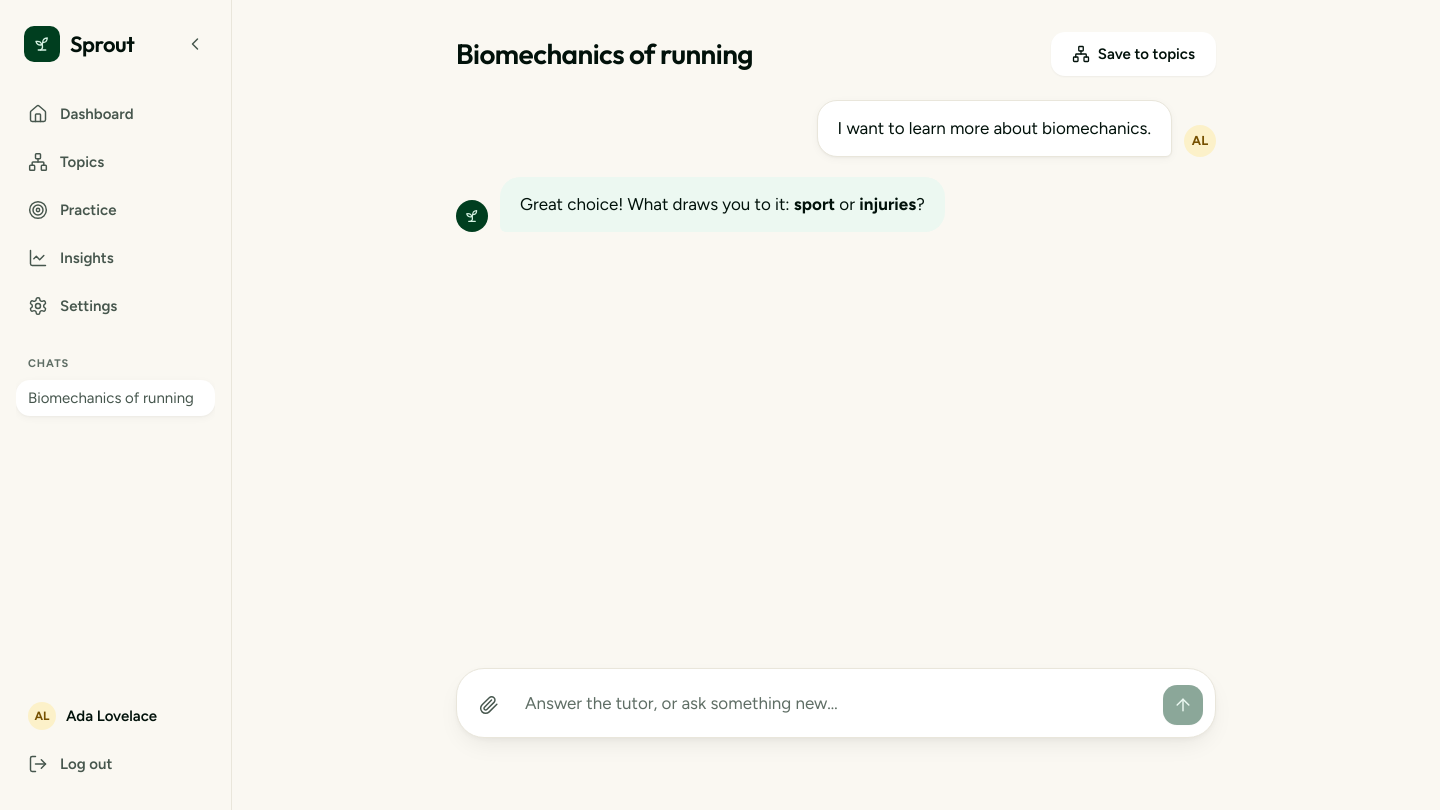
ConversationView › keeps the review closed and says why when your categories don’t load
This screenshot has width=1440, height=810.
Click the button with test id "open-save".
click(1133, 54)  # box x1=1051 y1=32 x2=1216 y2=76
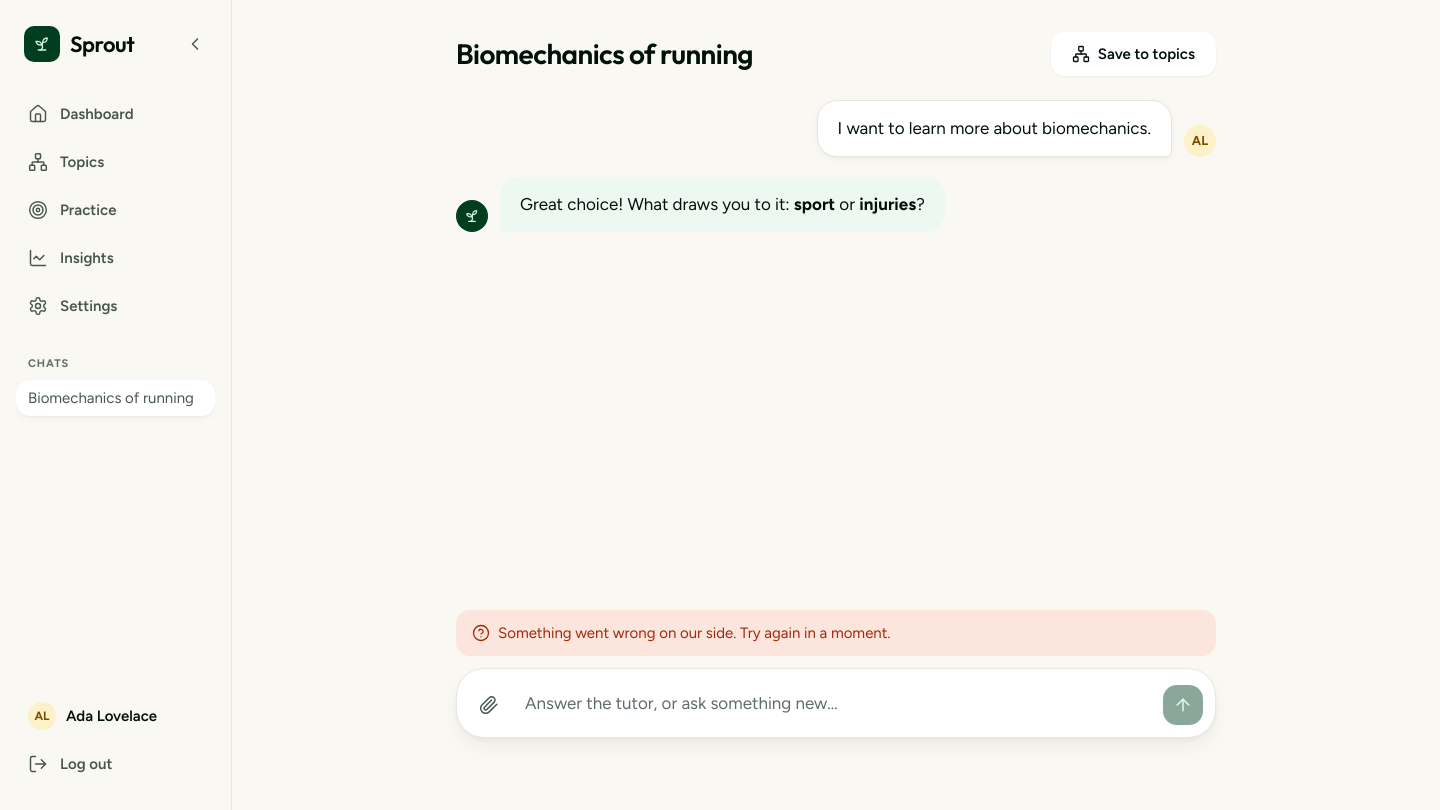
Result: the message with test id "form-error" reads "Something went wrong on our side. Try again in a moment." at x1=498 y1=624 x2=890 y2=642
